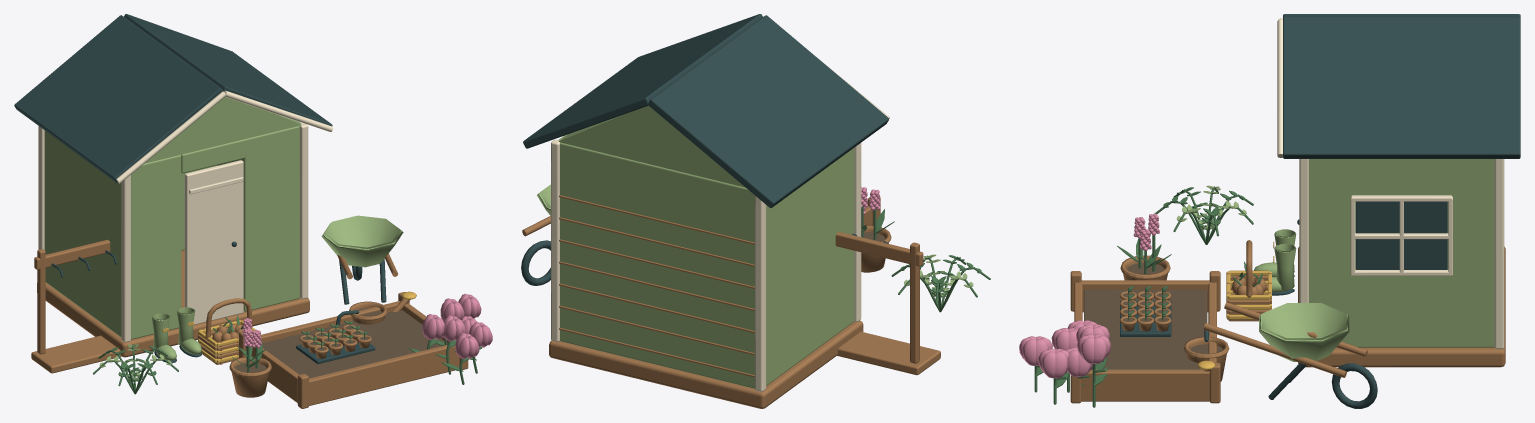
Rendered from almanac-gardens-spring-potting-vignette-29b80f80__22101.glb.
The picture shows the model from 3 angles, left to right: view 1: azimuth 30°, elevation 25°; view 2: azimuth 150°, elevation 25°; view 3: azimuth 270°, elevation 25°; orthographic projection. The views are drawn at different scales.
Parts seen in each view (by area): view 1: 000-potting-shed/potting-shed-sage, 000-potting-shed/potting-shed-iron, 000-potting-shed/potting-shed-ivory, 001-raised-bed/raised-bed-oak, 001-raised-bed/raised-bed-soil, 004-tool-stand/tool-stand-oak, 000-potting-shed/potting-shed-oak, 003-wheelbarrow/wheelbarrow-sage, 010-tulip-border/tulip-border-pink, 007-rain-boots/rain-boots-sage, 005-bulb-basket/bulb-basket-oak, 002-seedling-tray/seedling-tray-oak (+7 smaller); view 2: 000-potting-shed/potting-shed-sage, 000-potting-shed/potting-shed-iron, 000-potting-shed/potting-shed-oak, 000-potting-shed/potting-shed-ivory, 004-tool-stand/tool-stand-oak, 008-unfurling-fern/unfurling-fern-leaf, 003-wheelbarrow/wheelbarrow-iron, 009-hyacinth-planter/hyacinth-planter-clay, 008-unfurling-fern/unfurling-fern-sage; view 3: 000-potting-shed/potting-shed-iron, 000-potting-shed/potting-shed-sage, 001-raised-bed/raised-bed-oak, 000-potting-shed/potting-shed-ivory, 001-raised-bed/raised-bed-soil, 000-potting-shed/potting-shed-blue, 003-wheelbarrow/wheelbarrow-sage, 000-potting-shed/potting-shed-oak, 010-tulip-border/tulip-border-pink, 003-wheelbarrow/wheelbarrow-oak, 008-unfurling-fern/unfurling-fern-leaf, 007-rain-boots/rain-boots-sage (+11 smaller).
Part boxes in pixels (bbox=[...]): 000-potting-shed/potting-shed-sage: bbox=[44, 97, 301, 339]; 000-potting-shed/potting-shed-iron: bbox=[14, 14, 332, 246]; 000-potting-shed/potting-shed-ivory: bbox=[38, 90, 332, 342]; 001-raised-bed/raised-bed-oak: bbox=[239, 292, 468, 408]; 001-raised-bed/raised-bed-soil: bbox=[262, 310, 447, 378]; 004-tool-stand/tool-stand-oak: bbox=[31, 239, 121, 373]; 000-potting-shed/potting-shed-oak: bbox=[37, 250, 309, 357]; 003-wheelbarrow/wheelbarrow-sage: bbox=[321, 215, 403, 267]; 010-tulip-border/tulip-border-pink: bbox=[422, 293, 492, 359]; 007-rain-boots/rain-boots-sage: bbox=[152, 307, 201, 360]; 005-bulb-basket/bulb-basket-oak: bbox=[198, 298, 252, 364]; 002-seedling-tray/seedling-tray-oak: bbox=[299, 324, 371, 358]; 000-potting-shed/potting-shed-sage: bbox=[558, 106, 854, 388]; 000-potting-shed/potting-shed-iron: bbox=[523, 14, 888, 207]; 000-potting-shed/potting-shed-oak: bbox=[549, 195, 863, 408]; 000-potting-shed/potting-shed-ivory: bbox=[551, 16, 889, 391]; 004-tool-stand/tool-stand-oak: bbox=[835, 232, 940, 375]; 008-unfurling-fern/unfurling-fern-leaf: bbox=[891, 255, 990, 312]; 003-wheelbarrow/wheelbarrow-iron: bbox=[521, 240, 550, 285]; 009-hyacinth-planter/hyacinth-planter-clay: bbox=[861, 225, 891, 272]; 008-unfurling-fern/unfurling-fern-sage: bbox=[904, 254, 973, 296]; 000-potting-shed/potting-shed-iron: bbox=[1283, 14, 1520, 224]; 000-potting-shed/potting-shed-sage: bbox=[1309, 159, 1494, 347]; 001-raised-bed/raised-bed-oak: bbox=[1070, 271, 1220, 403]; 000-potting-shed/potting-shed-ivory: bbox=[1277, 18, 1504, 348]; 001-raised-bed/raised-bed-soil: bbox=[1084, 290, 1207, 369]; 000-potting-shed/potting-shed-blue: bbox=[1356, 201, 1447, 269]; 003-wheelbarrow/wheelbarrow-sage: bbox=[1259, 303, 1349, 361]; 000-potting-shed/potting-shed-oak: bbox=[1298, 246, 1505, 367]; 010-tulip-border/tulip-border-pink: bbox=[1019, 320, 1110, 378]; 003-wheelbarrow/wheelbarrow-oak: bbox=[1203, 302, 1367, 377]; 008-unfurling-fern/unfurling-fern-leaf: bbox=[1154, 186, 1253, 244]; 007-rain-boots/rain-boots-sage: bbox=[1254, 229, 1296, 292].
Bounding box in the file's own units: 3.88 × 2.7 × 4.11.
